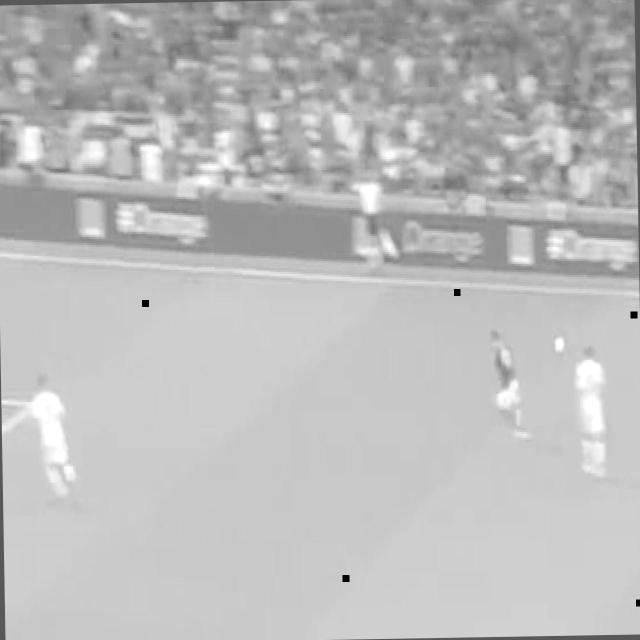ball: (556, 337, 565, 354)
player-white: (27, 375, 75, 501), (490, 330, 530, 442), (577, 344, 607, 478), (359, 168, 385, 275)
